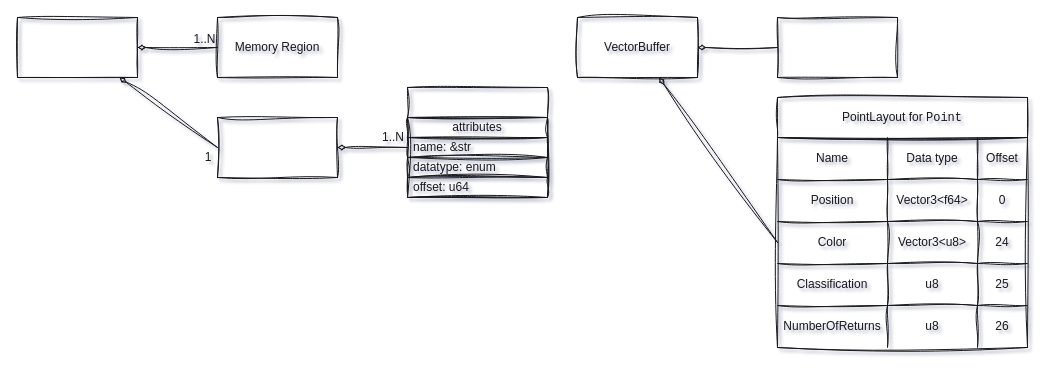
The diagram is 1051 pixels wide and 371 high, and some of its shapes have lost their labels. Here are the shapes that lost their labels. From the top down, the box of each, then its label:
(16, 16, 138, 78): PointBuffer
(776, 16, 898, 78): Vec<u8>
(216, 116, 338, 178): PointLayout
(406, 86, 548, 198): PointAttributeMember
